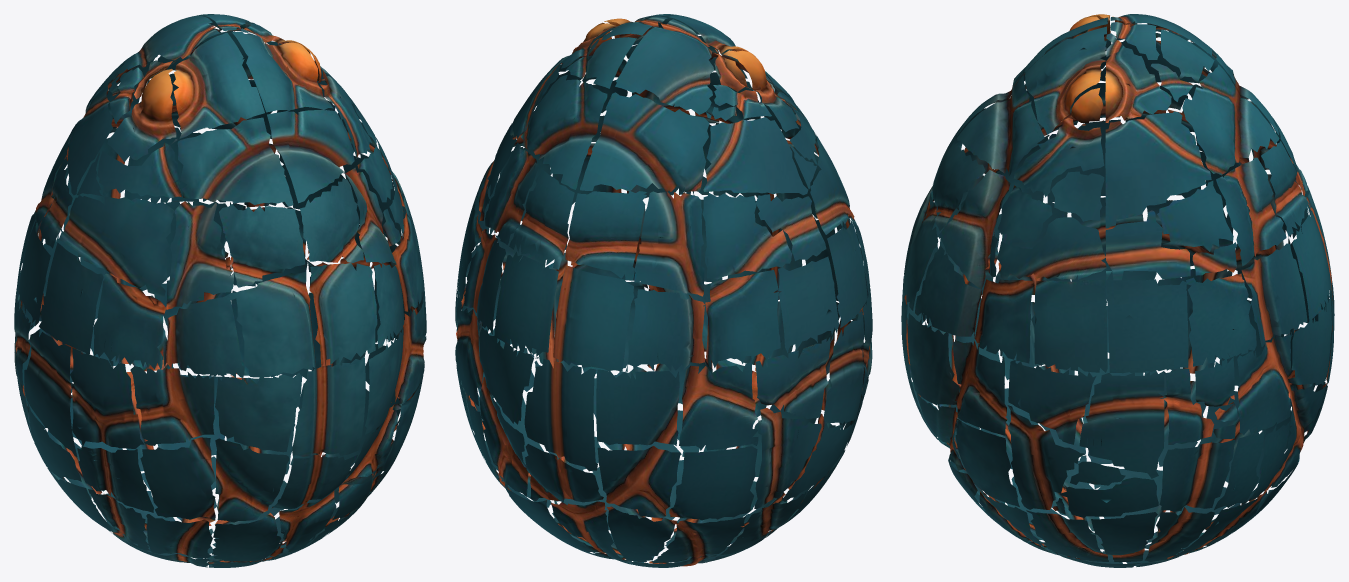
File: oeuf.glb
The picture shows the model from 3 angles, left to right: view 1: azimuth 30°, elevation 25°; view 2: azimuth 150°, elevation 25°; view 3: azimuth 270°, elevation 25°; orthographic projection.
Parts seen in each view (by area): view 1: mesh_node; view 2: mesh_node; view 3: mesh_node.
Part boxes in pixels (x1,y1,x2,y2): mesh_node: (14, 14, 426, 567); mesh_node: (455, 14, 872, 567); mesh_node: (901, 14, 1334, 567).
Size of the model in its own units: 1.38 by 1.9 by 1.42.
1 material, 1 textured.
